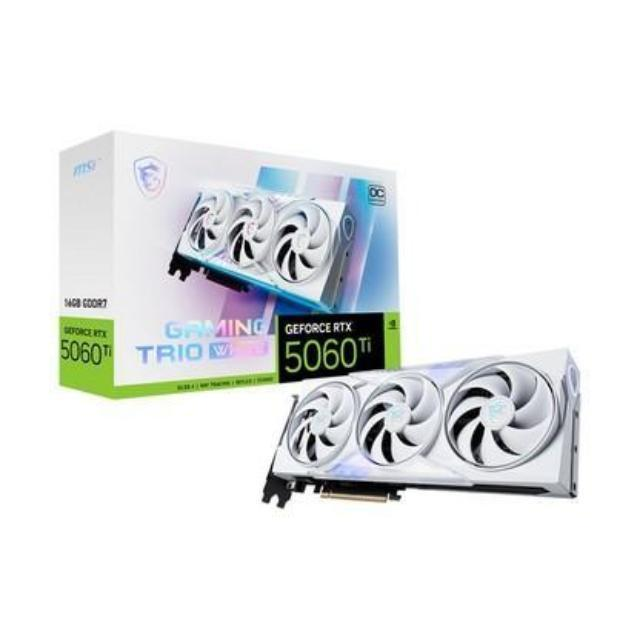GPU: (260, 344, 585, 524)
